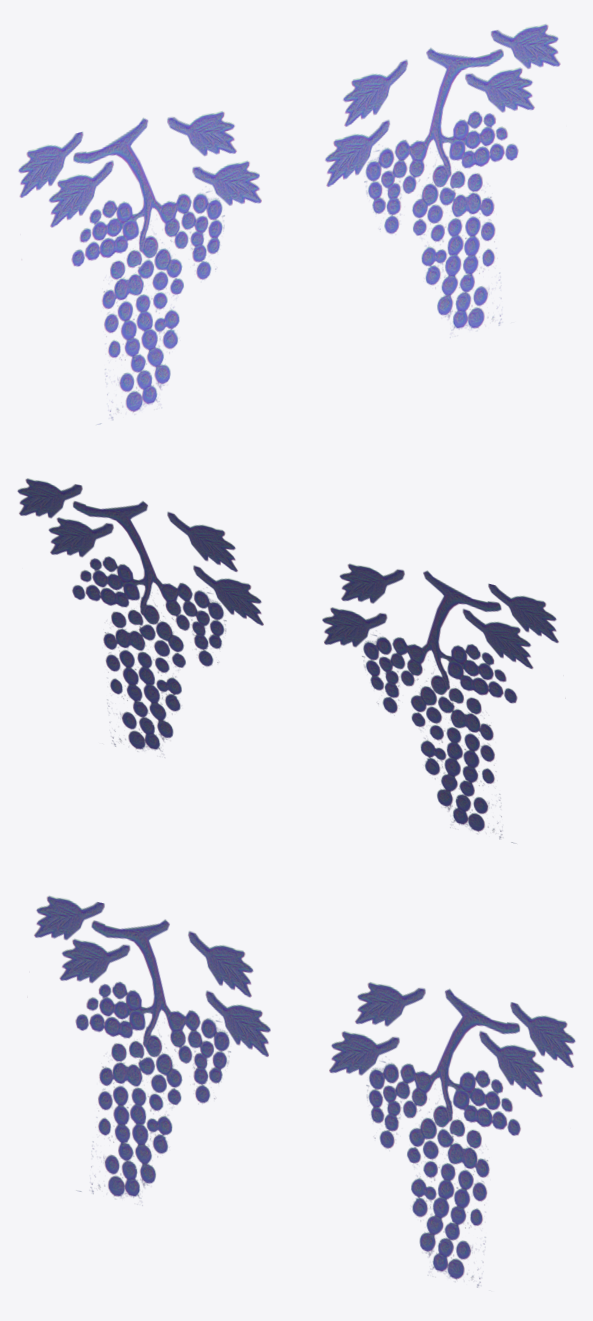
Rendered from grapevine.glb.
3 renders of one model, top to bottom at view 1: azimuth 30°, elevation 25°; view 2: azimuth 150°, elevation 25°; view 3: azimuth 330°, elevation 25°, orthographic.
Visible parts, largest first — view 1: Plane; view 2: Plane; view 3: Plane.
Boxes of the visible parts, <box> form: Plane: <box>18,24,560,424</box>; Plane: <box>17,478,558,843</box>; Plane: <box>34,896,575,1287</box>.
Bounding box in the file's own units: 2.15 × 1.04 × 0.157.
Materials: 1 (1 with a texture image).
